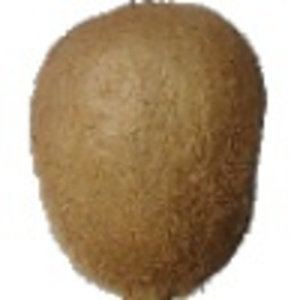kiwi: (28, 1, 270, 300)
